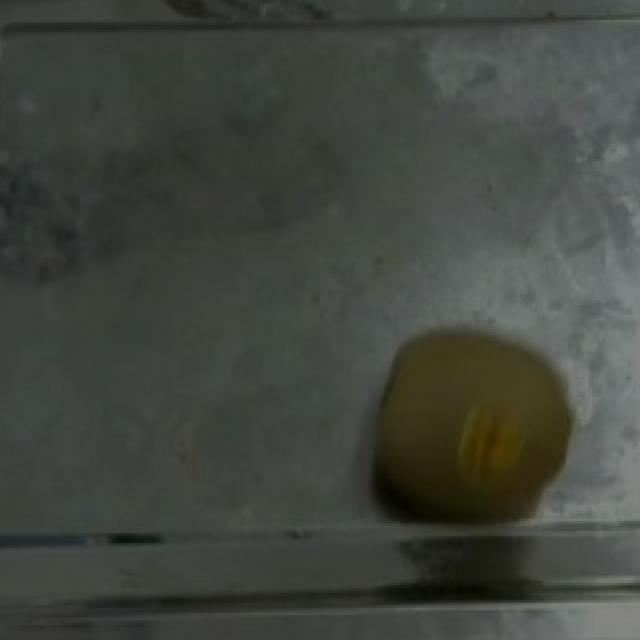Fruit: (350, 318, 594, 550)
